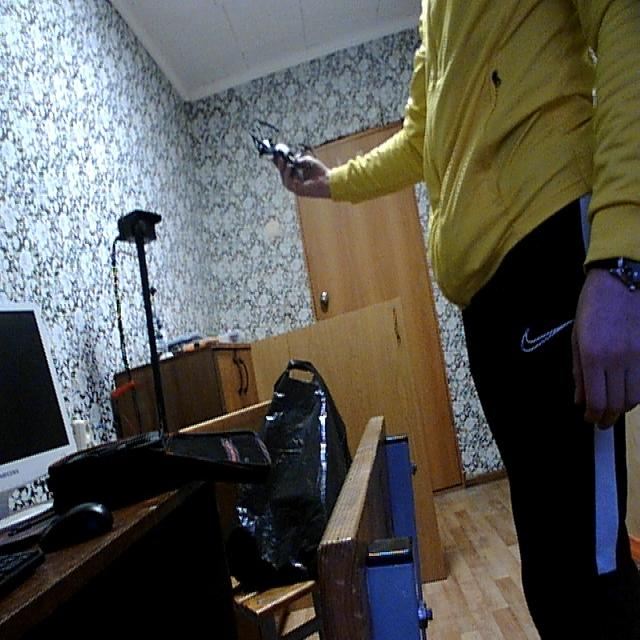drone: (245, 111, 320, 191)
